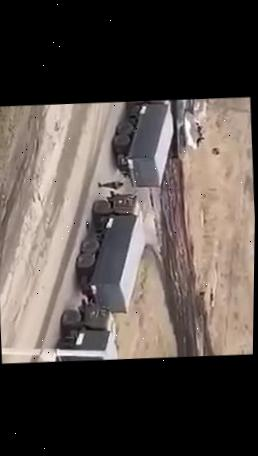person: (98, 179, 123, 190)
tank: (169, 97, 208, 171)
truck: (71, 188, 150, 317), (110, 98, 178, 189), (48, 303, 123, 363)
